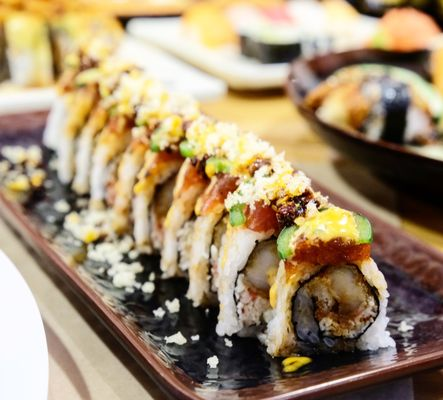curry: (1, 4, 442, 388)
